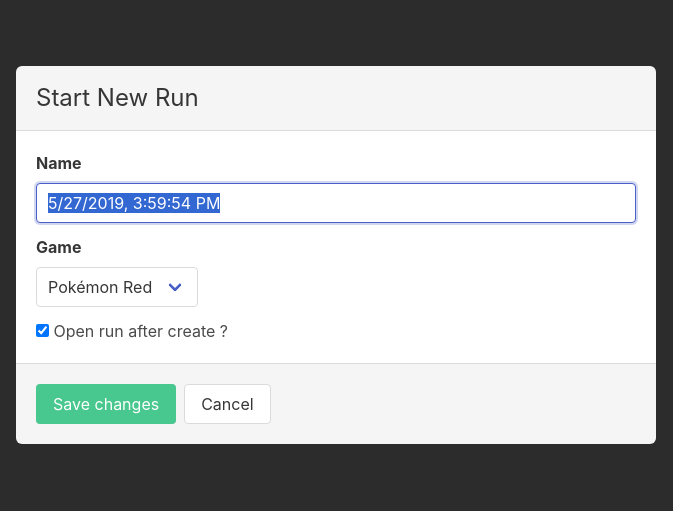
Scenario: CreateRunModal › Show an error when the request fails
Replace the text in the field with "test" at [336, 203], box top-left (36, 183), bottom-right (636, 223)
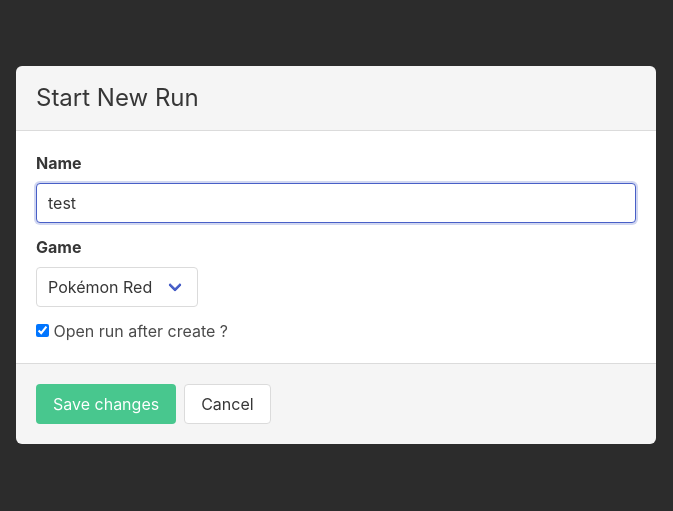
Click the button "Save changes" at [106, 404], box top-left (36, 384), bottom-right (176, 424)
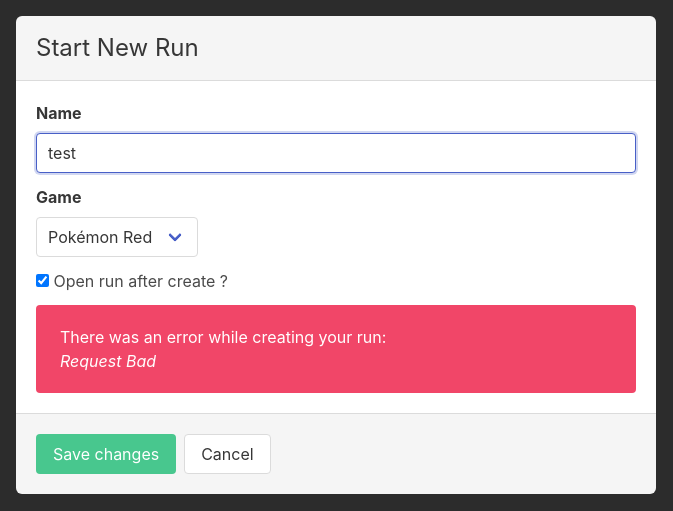
Expected: the element showing "There was an error while creating your run: Request Bad" is shown, top-left (36, 305), bottom-right (636, 393)
